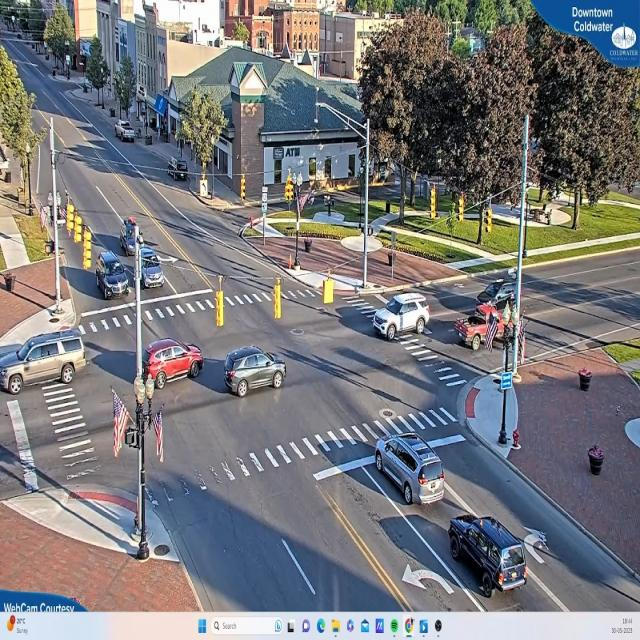car: (449, 515, 533, 595), (0, 330, 88, 394), (374, 433, 444, 506), (222, 347, 287, 398), (376, 292, 432, 338), (144, 343, 201, 387), (455, 299, 503, 350), (97, 253, 134, 300), (143, 261, 167, 288), (117, 122, 137, 144)
